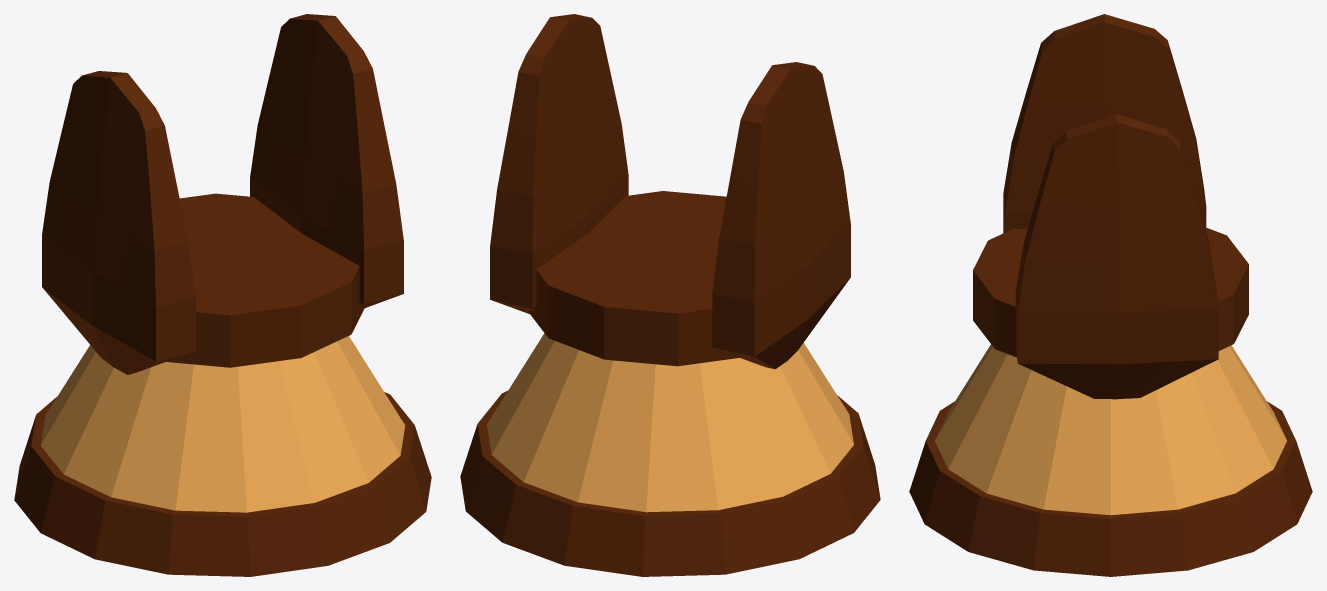
Rendered from havasavunmasi5.fbx.
3 views of the same model, side by side, from view 1: azimuth 30°, elevation 25°; view 2: azimuth 150°, elevation 25°; view 3: azimuth 270°, elevation 25° (orthographic). The views are drawn at different scales.
Visible parts, largest first — view 1: Cylinder, kurdanatar_alt.013; view 2: Cylinder, kurdanatar_alt.013; view 3: Cylinder, kurdanatar_alt.013.
Boxes of the visible parts, box(x1,y1,x2,y2) form: Cylinder: box(42, 14, 403, 374); kurdanatar_alt.013: box(14, 336, 431, 576); Cylinder: box(490, 14, 850, 369); kurdanatar_alt.013: box(460, 333, 880, 576); Cylinder: box(973, 14, 1248, 399); kurdanatar_alt.013: box(909, 344, 1312, 576).
Bounding box in the file's own units: 200 × 234 × 200.
4 materials, 4 textured.
